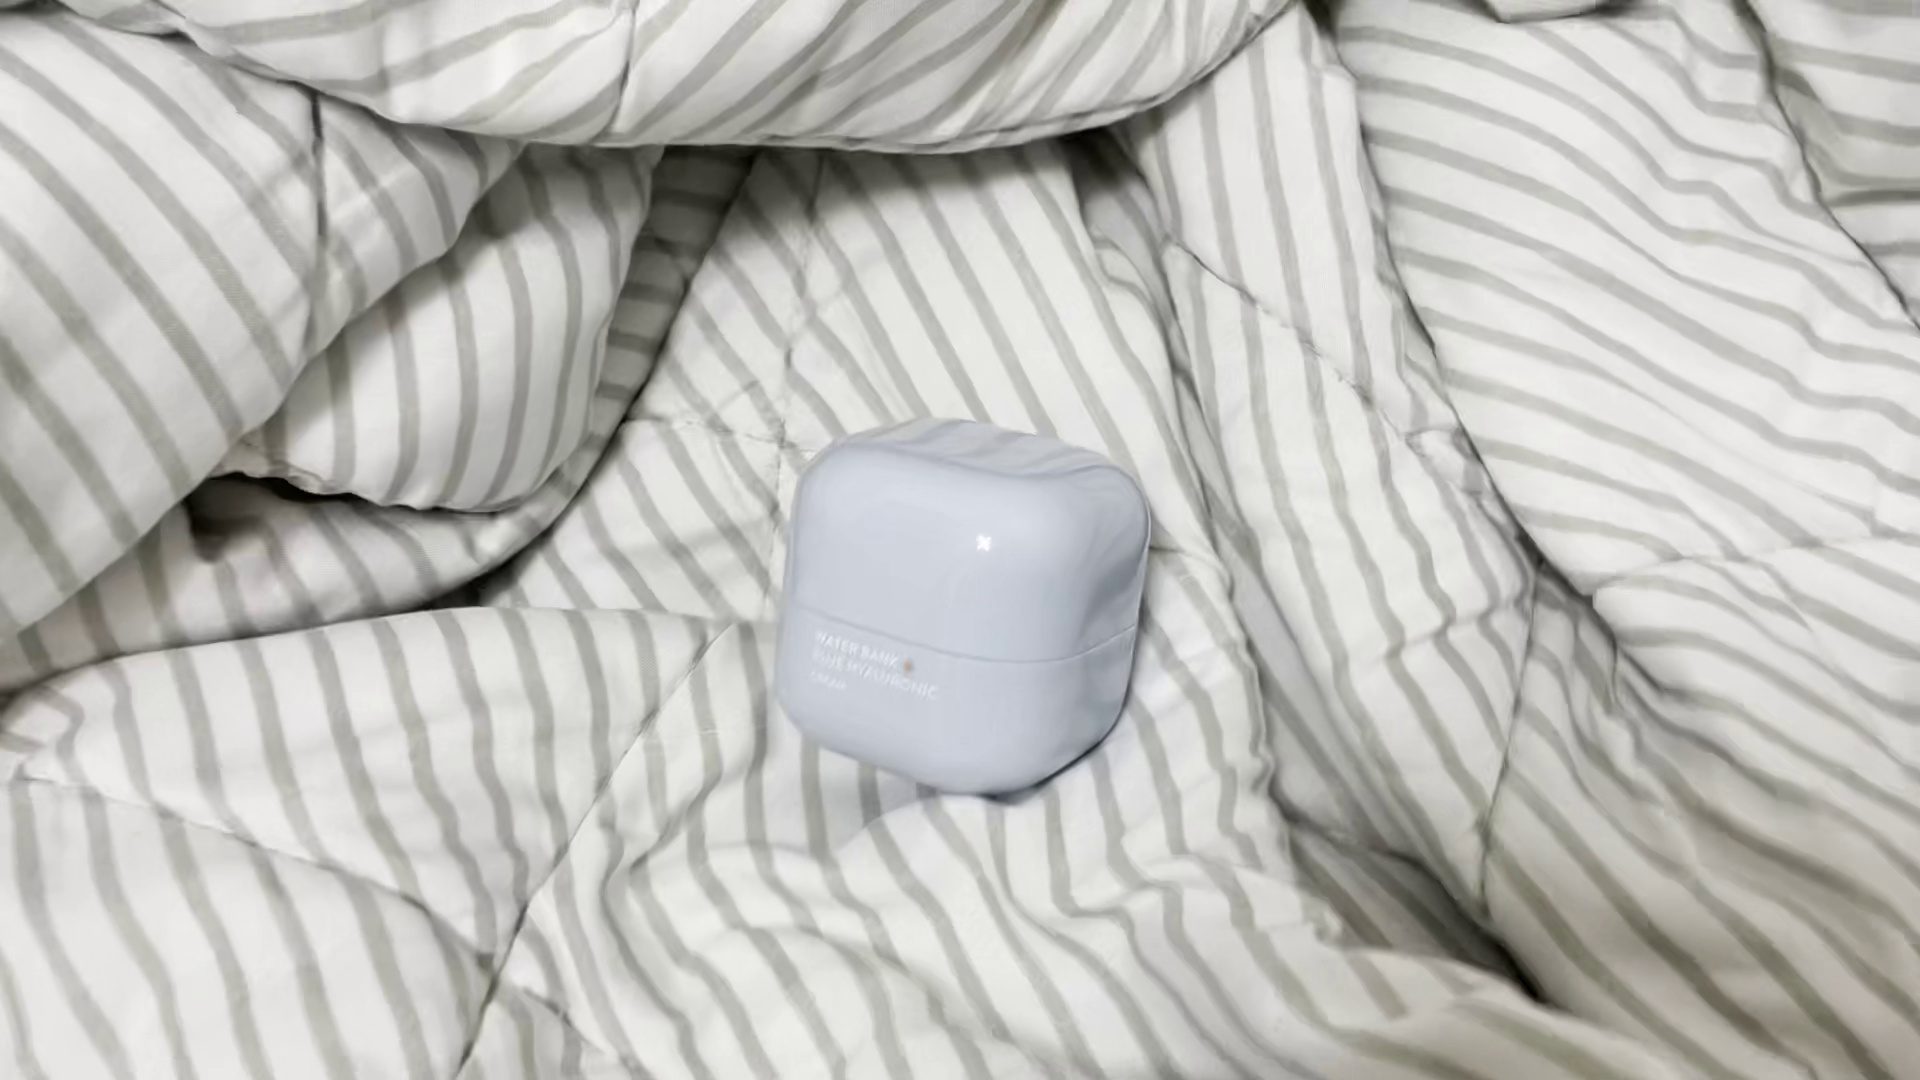cream: (781, 415, 1145, 796)
